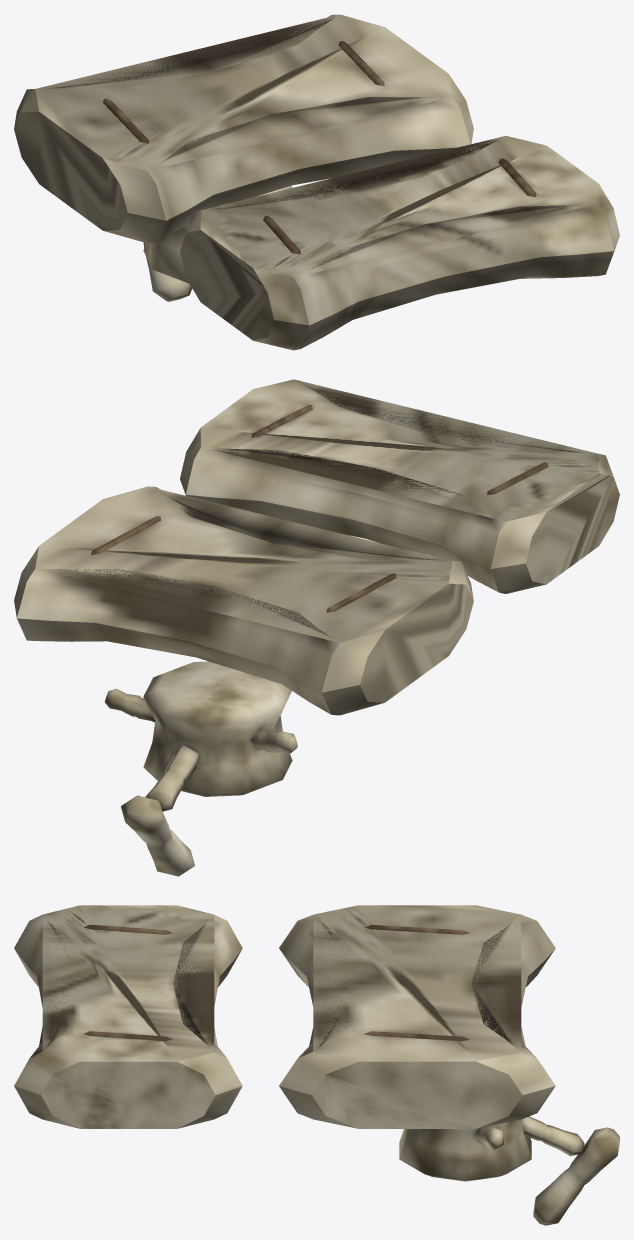
Rendered from Ossuary_Platform.fbx.
The picture shows the model from 3 angles, top to bottom: view 1: azimuth 30°, elevation 25°; view 2: azimuth 150°, elevation 25°; view 3: azimuth 270°, elevation 25°; orthographic projection. The views are drawn at different scales.
Parts seen in each view (by area): view 1: Ossuary_Platform; view 2: Ossuary_Platform; view 3: Ossuary_Platform.
Part boxes in pixels (box(x1,y1,x2,y2)): Ossuary_Platform: box(14, 14, 619, 350); Ossuary_Platform: box(14, 379, 619, 876); Ossuary_Platform: box(14, 905, 619, 1225).
Bounding box in the file's own units: 0.999 × 0.7225 × 1.64.
